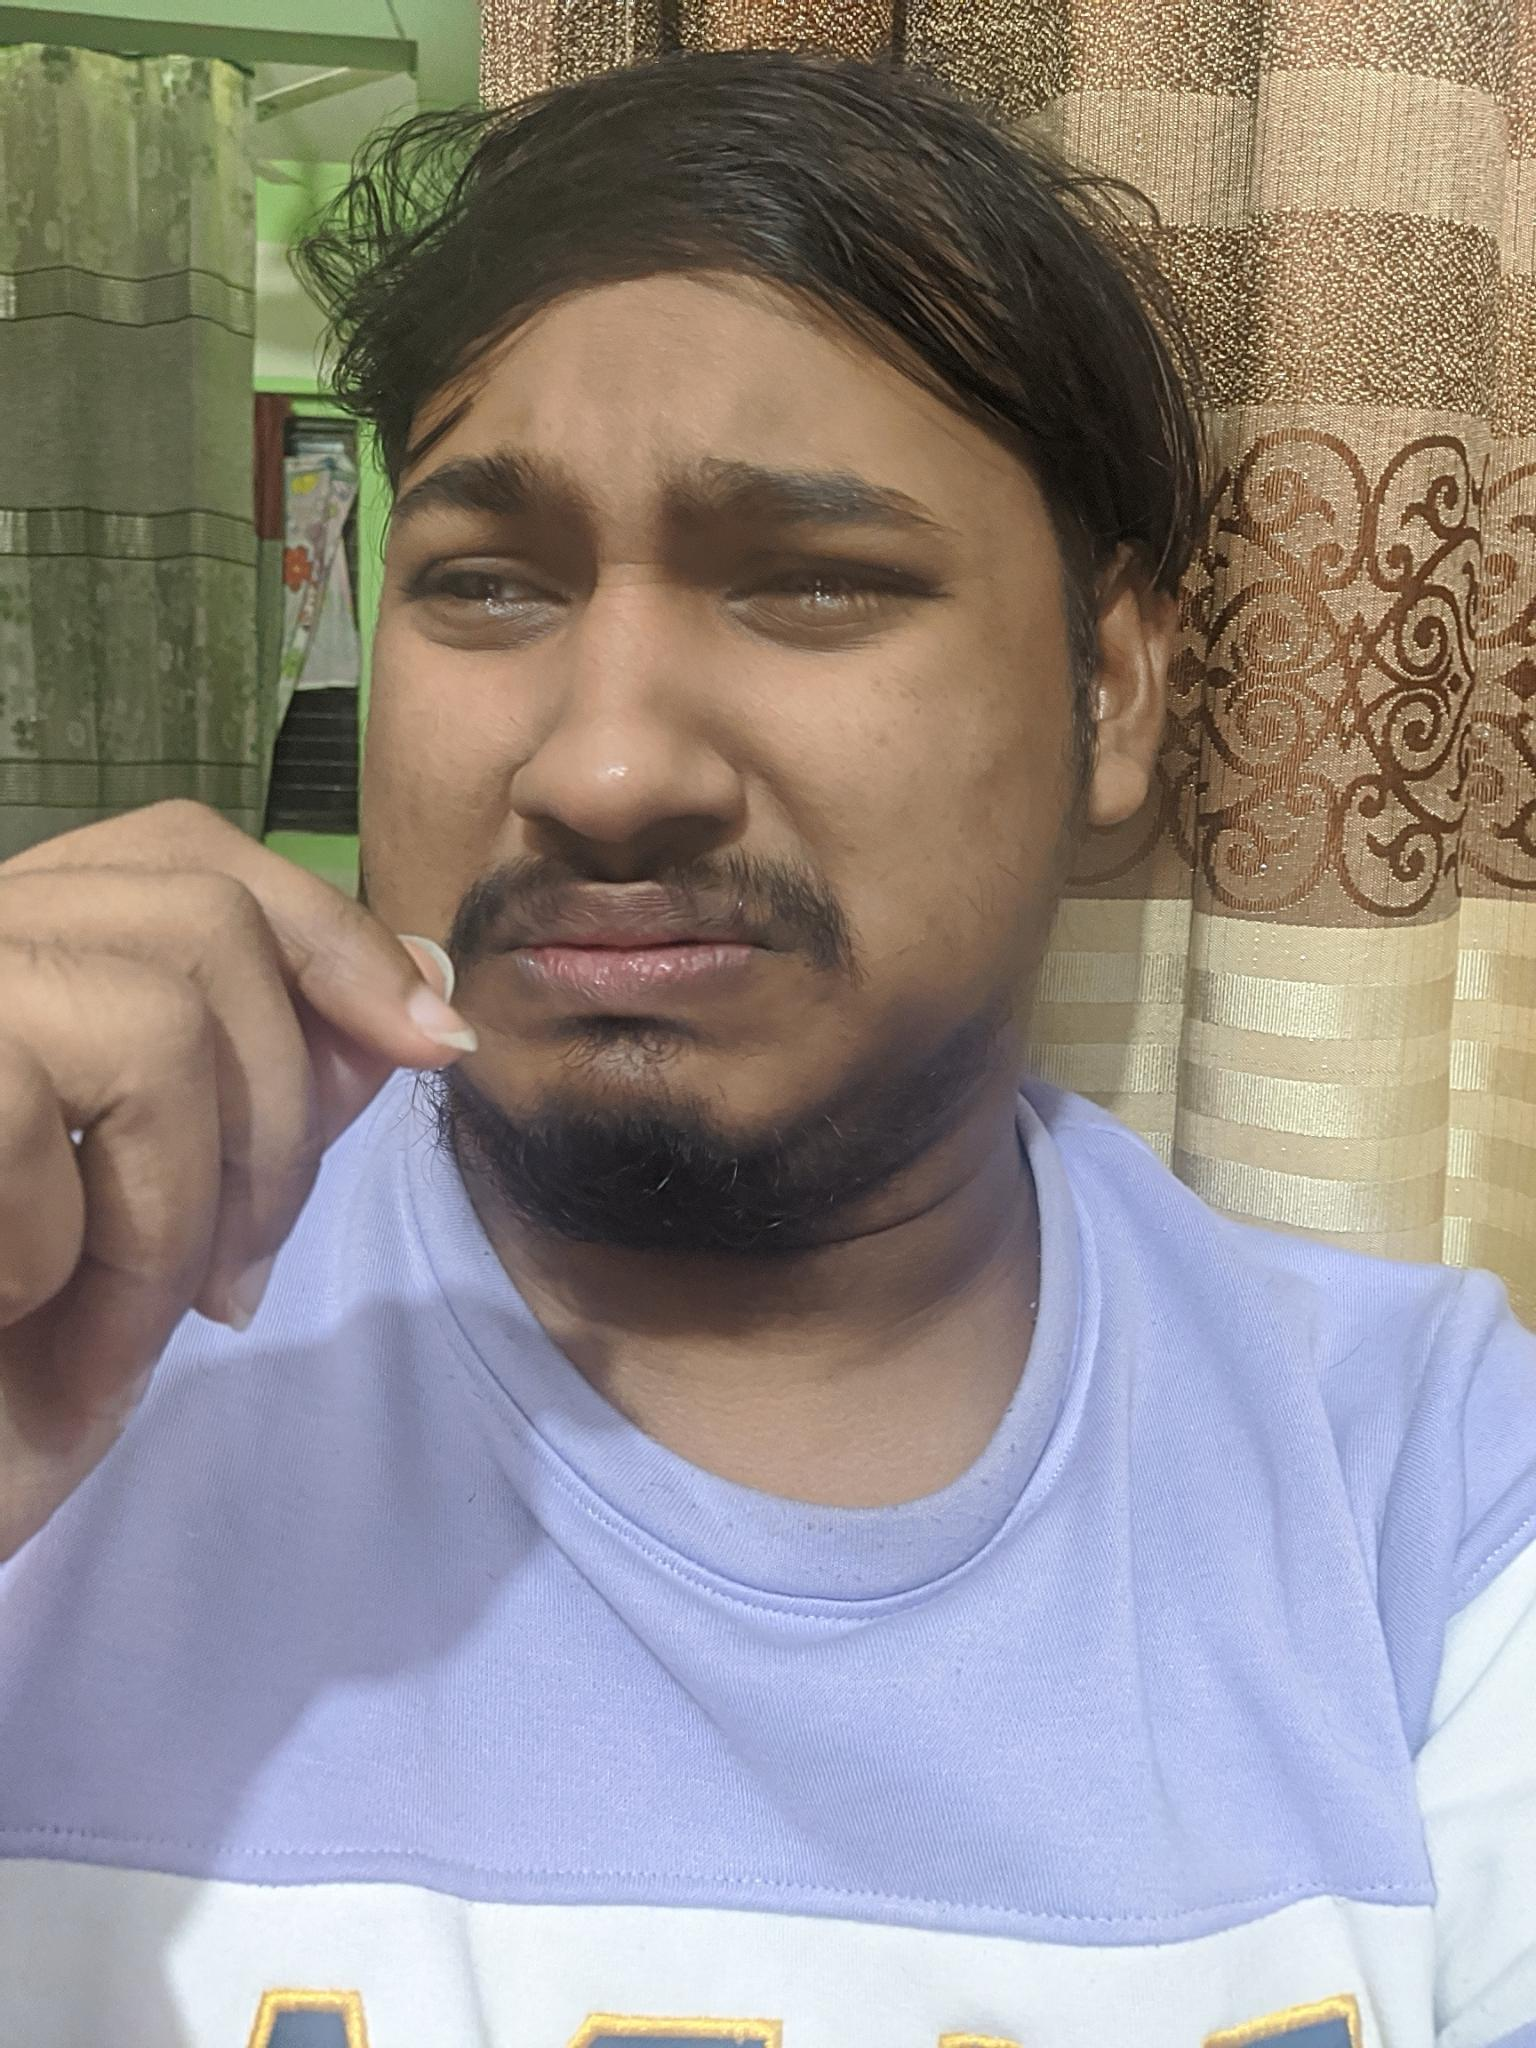Disgust: (331, 339, 999, 1205)
